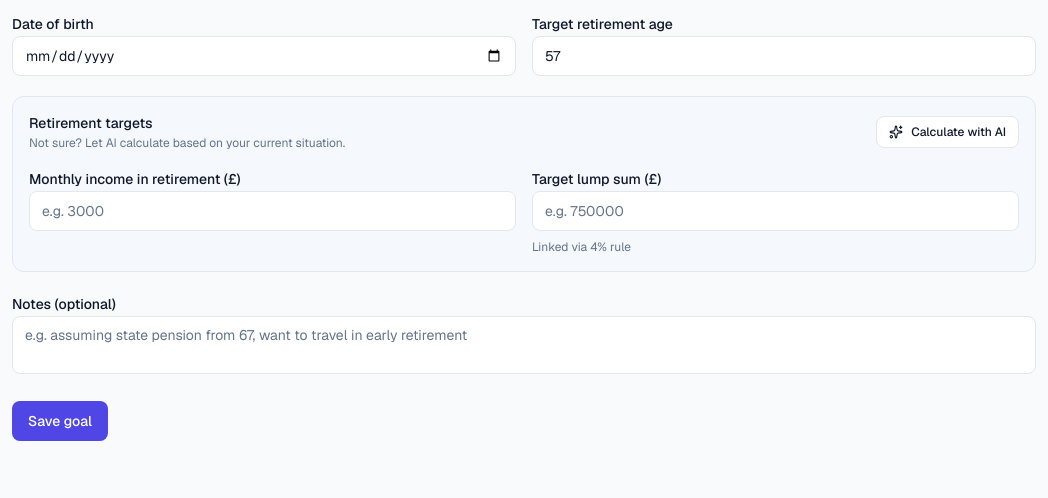
Scenario: GoalForm — derived lump sum display › shows error message when AI suggest fetch fails
The image size is (1048, 498).
Click the button "Calculate with AI": (948, 132) [876,116,1019,148]
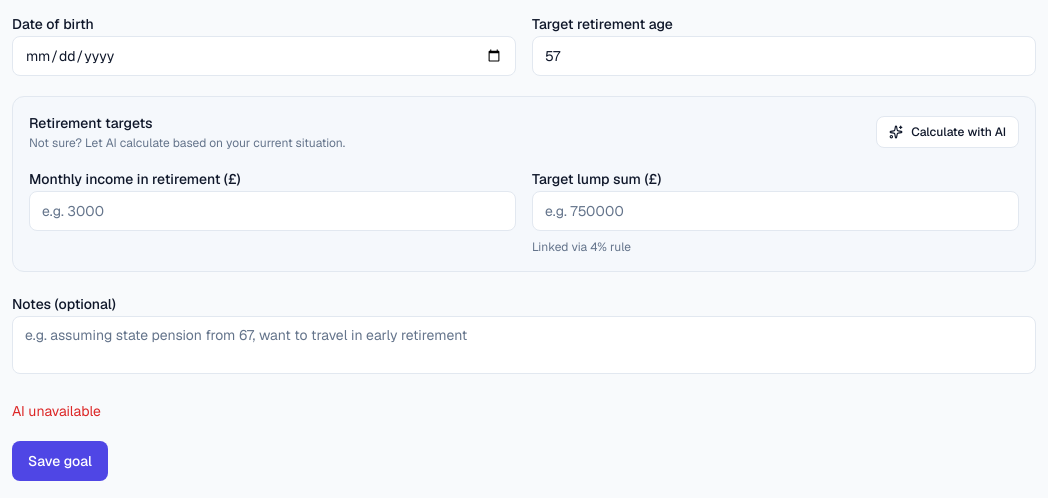
Result: the message reads "AI unavailable" at [12,402,101,420]
